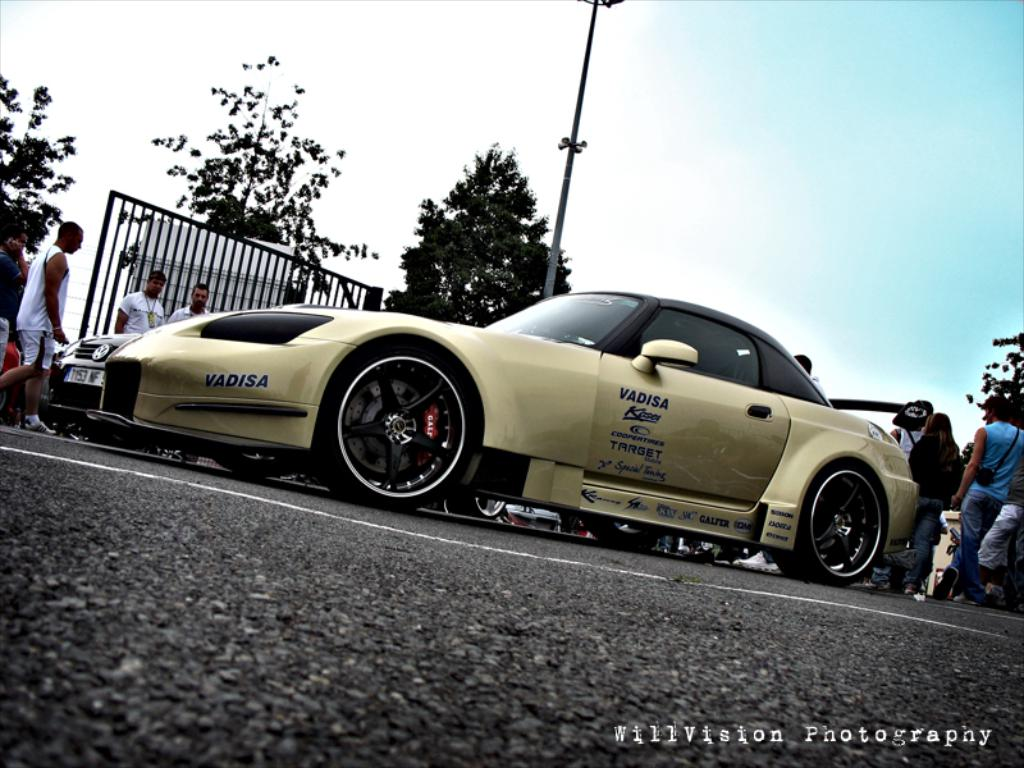Car: (42, 286, 925, 586)
